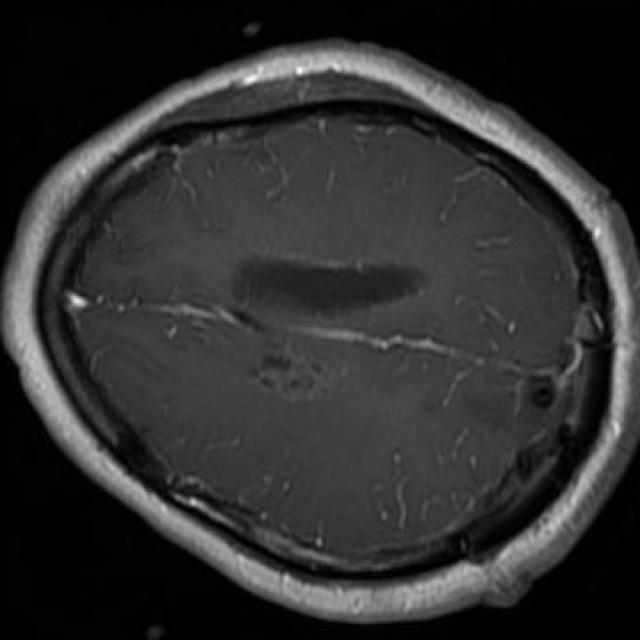glioma: (253, 346, 333, 401)
